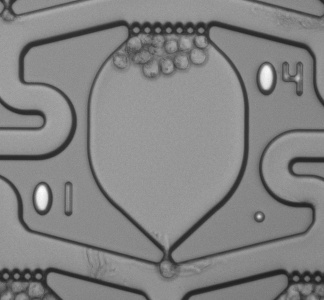AptNum: (248, 58, 309, 102)
Marker: (250, 208, 271, 226)
StNum: (27, 176, 79, 222)
